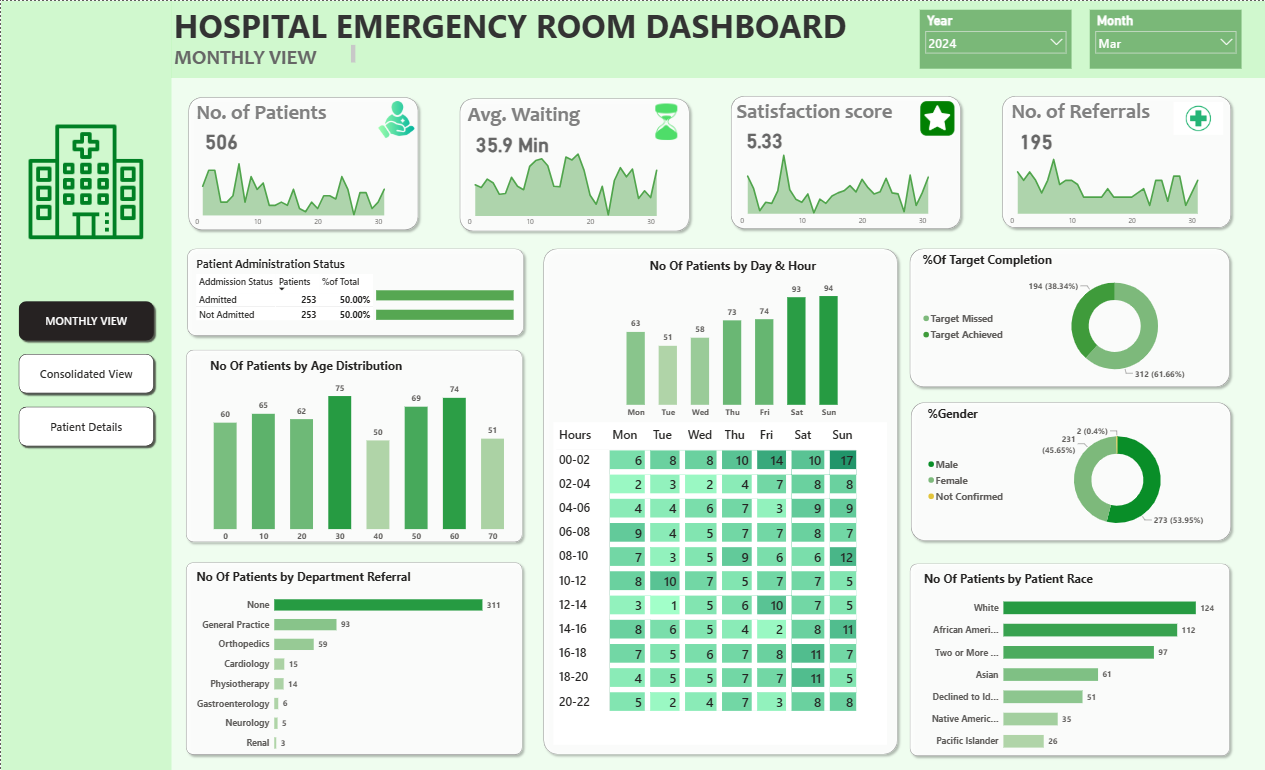

The page's visual inventory and layout, read from the dashboard file:
{"tool":"powerbi","page":{"name":"MONTHLY VIEW","canvas":[2300,1400],"ordinal":0},"visuals":[{"type":"shape","box":[310,0,1990,140],"z":0},{"type":"shape","box":[0,0,310,1400],"z":1000},{"type":"textbox","box":[309.5,0,1252.4,104.8],"z":2000},{"type":"textbox","box":[310,75.7,340,48.6],"z":3000},{"type":"slicer","fields":{"Values":["Date_table.Yrae"]},"box":[1671.4,16.7,276.2,107.1],"z":4000},{"type":"shape","box":[331,166.7,435.7,259.5],"z":5000},{"type":"slicer","fields":{"Values":["Date_table.Month"]},"box":[1978.6,16.7,276.2,107.1],"z":6000},{"type":"textbox","box":[351.1,175.6,340,57.8],"z":7000},{"type":"cardVisual","fields":{"Data":["Hospital ER_Data.No Of Patients"]},"box":[340,206,192,95],"z":8000},{"type":"areaChart","fields":{"Category":["Date_table.Date.Variation.Date Hierarchy.Day"],"Y":["Hospital ER_Data.No Of Patients"]},"box":[340,260,415,160],"z":9000},{"type":"shape","box":[824.1,167.5,435.7,259.5],"z":10000},{"type":"textbox","box":[843.3,176.7,340,57.8],"z":11000},{"type":"cardVisual","fields":{"Data":["Hospital ER_Data.Avg Wait Time"]},"box":[834,213,208,95],"z":12000},{"type":"areaChart","fields":{"Category":["Date_table.Date.Variation.Date Hierarchy.Day"],"Y":["Avg(Hospital ER_Data.Patient Waittime)"]},"box":[836,260,415,161],"z":13000},{"type":"shape","box":[1317.3,164.2,435.7,259.5],"z":14000},{"type":"textbox","box":[1331.1,173.3,340,57.8],"z":15000},{"type":"cardVisual","fields":{"Data":["Hospital ER_Data.satisfaction score"]},"box":[1324,205,192,96],"z":16000},{"type":"areaChart","fields":{"Category":["Date_table.Date.Variation.Date Hierarchy.Day"],"Y":["Sum(Hospital ER_Data.Patient Satisfaction Score)"]},"box":[1331,260,413,158],"z":17000},{"type":"shape","box":[1810.5,163.2,434.2,257.9],"z":18000},{"type":"textbox","box":[1831,173,340,58],"z":19000},{"type":"cardVisual","fields":{"Data":["Hospital ER_Data.no of referral"]},"box":[1822,207,192,95],"z":20000},{"type":"areaChart","fields":{"Category":["Date_table.Date.Variation.Date Hierarchy.Day"],"Y":["Hospital ER_Data.no of referral"]},"box":[1822,260,412,158],"z":21000},{"type":"shape","box":[330,440,630,177],"z":22000},{"type":"pivotTable","title":"Patient Administration Status","fields":{"Rows":["Hospital ER_Data.Addmission Status"],"Values":["Hospital ER_Data.No Of Patients1","Hospital ER_Data.No Of Patients"]},"box":[350.8,465.4,585.4,125.4],"z":23000},{"type":"barChart","fields":{"Category":["Hospital ER_Data.Addmission Status"],"Y":["Hospital ER_Data.No Of Patients"]},"box":[676.7,495.6,260,110],"z":24000},{"type":"shape","box":[328.2,624.5,630,368],"z":25000},{"type":"clusteredColumnChart","fields":{"Category":["Hospital ER_Data.Age Distribution"],"Y":["Hospital ER_Data.No Of Patients"]},"box":[375,646.7,551.7,346.7],"z":26000},{"type":"shape","box":[328.3,1011.7,630,368.3],"z":27000},{"type":"clusteredBarChart","fields":{"Category":["Hospital ER_Data.Department Referral"],"Y":["Hospital ER_Data.No Of Patients"]},"box":[350,1032,578,348],"z":28000},{"type":"shape","box":[1644,442,600,270],"z":29000},{"type":"donutChart","title":"%Of Target Completion","fields":{"Category":["Hospital ER_Data.Wait Time"],"Y":["Hospital ER_Data.No Of Patients"]},"box":[1671.2,454.4,554,244],"z":30000},{"type":"shape","box":[1645.6,720.4,600,270],"z":31000},{"type":"donutChart","title":"%Gender","fields":{"Y":["Hospital ER_Data.No Of Patients"],"Category":["Hospital ER_Data.Patient Gender"]},"box":[1679.6,734.8,554,244],"z":32000},{"type":"shape","box":[1644,1014,600,368],"z":33000},{"type":"clusteredBarChart","fields":{"Y":["Hospital ER_Data.No Of Patients"],"Category":["Hospital ER_Data.Patient Race"]},"box":[1672,1034,550,346],"z":34000},{"type":"shape","box":[978,440,662,938],"z":35000},{"type":"pivotTable","fields":{"Rows":["Hospital ER_Data.Wait Time Interval"],"Columns":["Date_table.Day Name"],"Values":["Hospital ER_Data.No Of Patients"]},"box":[1004,766,606,586],"z":36000},{"type":"columnChart","title":"No Of Patients by Day & Hour","fields":{"Category":["Date_table.Day Name"],"Y":["Hospital ER_Data.No Of Patients"]},"box":[1110,465,442.5,302.5],"z":37000},{"type":"pageNavigator","box":[26,538,260,278],"z":38000},{"type":"image","box":[42.5,212.5,222.5,230],"z":39000},{"type":"image","box":[677,178,83,77],"z":40000},{"type":"image","box":[1671,182,64,63],"z":41000},{"type":"image","box":[2132,182,90,63],"z":42000},{"type":"image","box":[1183.3,186.7,51.7,66.7],"z":43000}]}

Visuals, with their boxes in screenshot pixels (x1, y1, x2, y2), scaled from the page's 2300x1400 canvas onto the 1265x770 screenshot:
shape: l=170, t=0, r=1264, b=77
shape: l=0, t=0, r=170, b=769
textbox: l=170, t=0, r=859, b=58
textbox: l=170, t=42, r=358, b=68
slicer - Date_table.Yrae: l=919, t=9, r=1071, b=68
shape: l=182, t=92, r=422, b=234
slicer - Date_table.Month: l=1088, t=9, r=1240, b=68
textbox: l=193, t=97, r=380, b=128
cardVisual - Hospital ER_Data.No Of Patients: l=187, t=113, r=293, b=166
areaChart - Date_table.Date.Variation.Date Hierarchy.Day x Hospital ER_Data.No Of Patients: l=187, t=143, r=415, b=231
shape: l=453, t=92, r=693, b=235
textbox: l=464, t=97, r=651, b=129
cardVisual - Hospital ER_Data.Avg Wait Time: l=459, t=117, r=573, b=169
areaChart - Date_table.Date.Variation.Date Hierarchy.Day x Avg(Hospital ER_Data.Patient Waittime): l=460, t=143, r=688, b=232
shape: l=725, t=90, r=964, b=233
textbox: l=732, t=95, r=919, b=127
cardVisual - Hospital ER_Data.satisfaction score: l=728, t=113, r=834, b=166
areaChart - Date_table.Date.Variation.Date Hierarchy.Day x Sum(Hospital ER_Data.Patient Satisfaction Score): l=732, t=143, r=959, b=230
shape: l=996, t=90, r=1235, b=232
textbox: l=1007, t=95, r=1194, b=127
cardVisual - Hospital ER_Data.no of referral: l=1002, t=114, r=1108, b=166
areaChart - Date_table.Date.Variation.Date Hierarchy.Day x Hospital ER_Data.no of referral: l=1002, t=143, r=1229, b=230
shape: l=182, t=242, r=528, b=339
"Patient Administration Status" pivotTable: l=193, t=256, r=515, b=325
barChart - Hospital ER_Data.Addmission Status x Hospital ER_Data.No Of Patients: l=372, t=273, r=515, b=333
shape: l=181, t=343, r=527, b=546
clusteredColumnChart - Hospital ER_Data.Age Distribution x Hospital ER_Data.No Of Patients: l=206, t=356, r=510, b=546
shape: l=181, t=556, r=527, b=759
clusteredBarChart - Hospital ER_Data.Department Referral x Hospital ER_Data.No Of Patients: l=193, t=568, r=510, b=759
shape: l=904, t=243, r=1234, b=392
"%Of Target Completion" donutChart: l=919, t=250, r=1224, b=384
shape: l=905, t=396, r=1235, b=545
"%Gender" donutChart: l=924, t=404, r=1228, b=538
shape: l=904, t=558, r=1234, b=760
clusteredBarChart - Hospital ER_Data.No Of Patients x Hospital ER_Data.Patient Race: l=920, t=569, r=1222, b=759
shape: l=538, t=242, r=902, b=758
pivotTable - Hospital ER_Data.Wait Time Interval x Date_table.Day Name: l=552, t=421, r=886, b=744
"No Of Patients by Day & Hour" columnChart: l=610, t=256, r=854, b=422
pageNavigator: l=14, t=296, r=157, b=449
image: l=23, t=117, r=146, b=243
image: l=372, t=98, r=418, b=140
image: l=919, t=100, r=954, b=135
image: l=1173, t=100, r=1222, b=135
image: l=651, t=103, r=679, b=139
